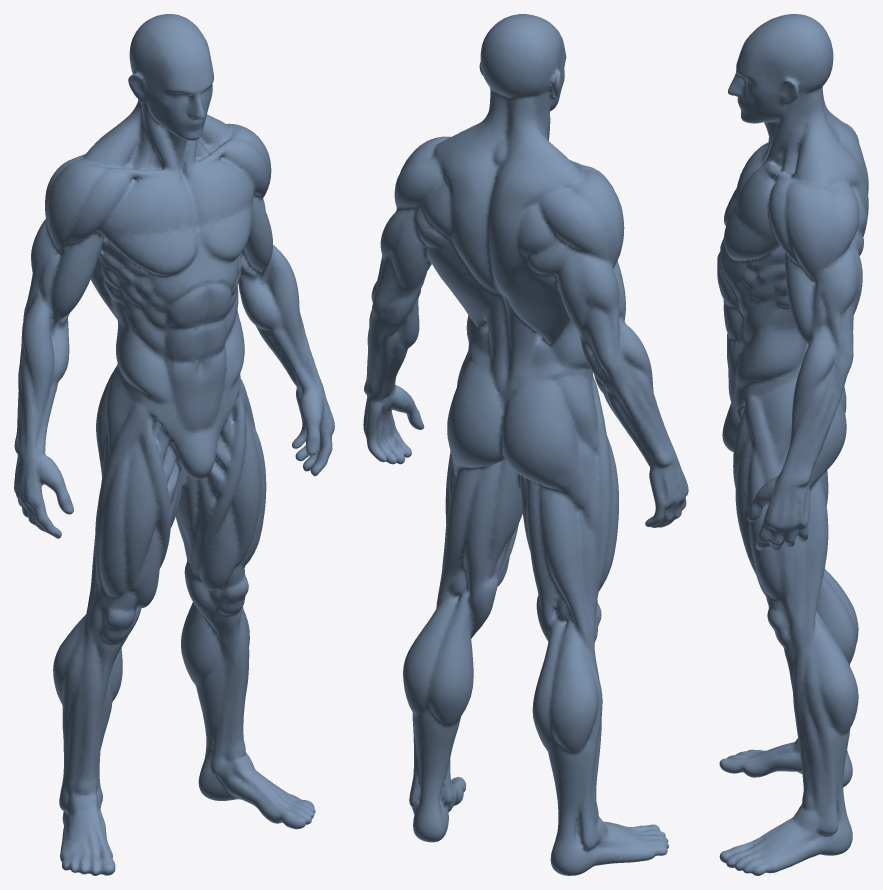
File: meshy-zones.glb
The picture shows the model from 3 angles, left to right: view 1: azimuth 30°, elevation 25°; view 2: azimuth 150°, elevation 25°; view 3: azimuth 270°, elevation 25°; orthographic projection. The views are drawn at different scales.
Parts seen in each view (by area): view 1: mesh_node; view 2: mesh_node; view 3: mesh_node.
Boxes of the visible parts, x1,y1,x2,y2 form: mesh_node: [14, 14, 334, 875]; mesh_node: [363, 14, 688, 875]; mesh_node: [717, 14, 868, 875].
Bounding box in the file's own units: 0.7588 × 1.9 × 0.3255.
